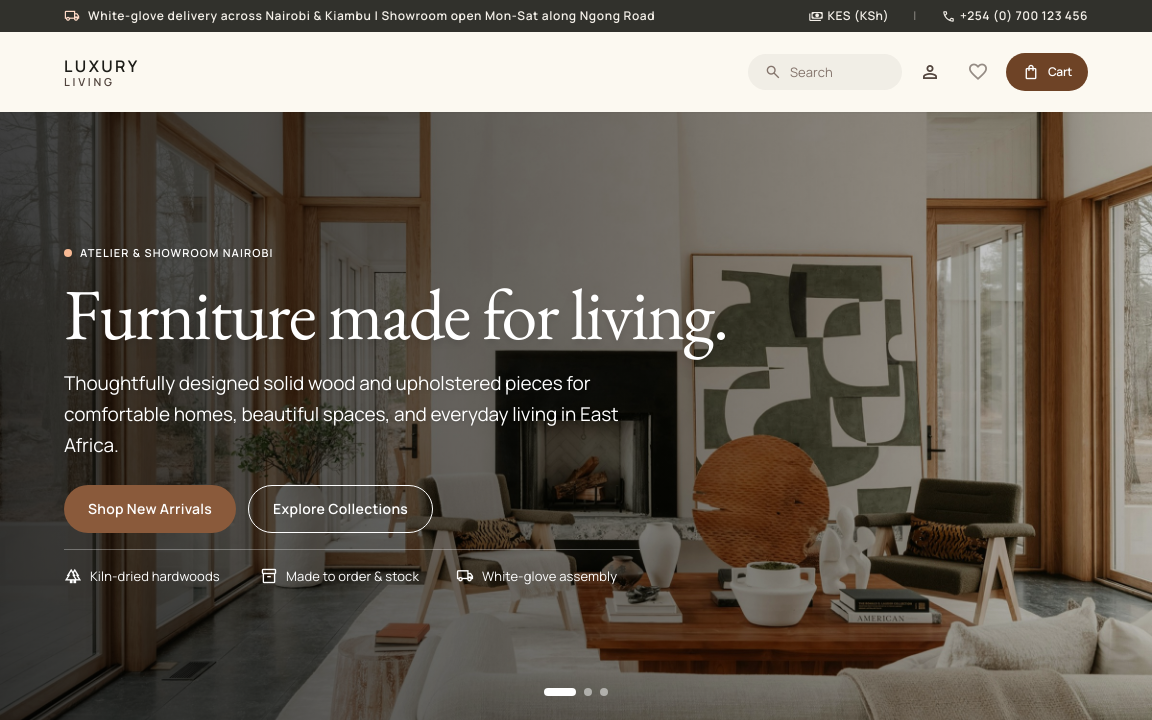
Scenario: signing in › shows the server's message when the password is wrong
Click the button named "Account" at (930, 72), box [910,52,950,92]
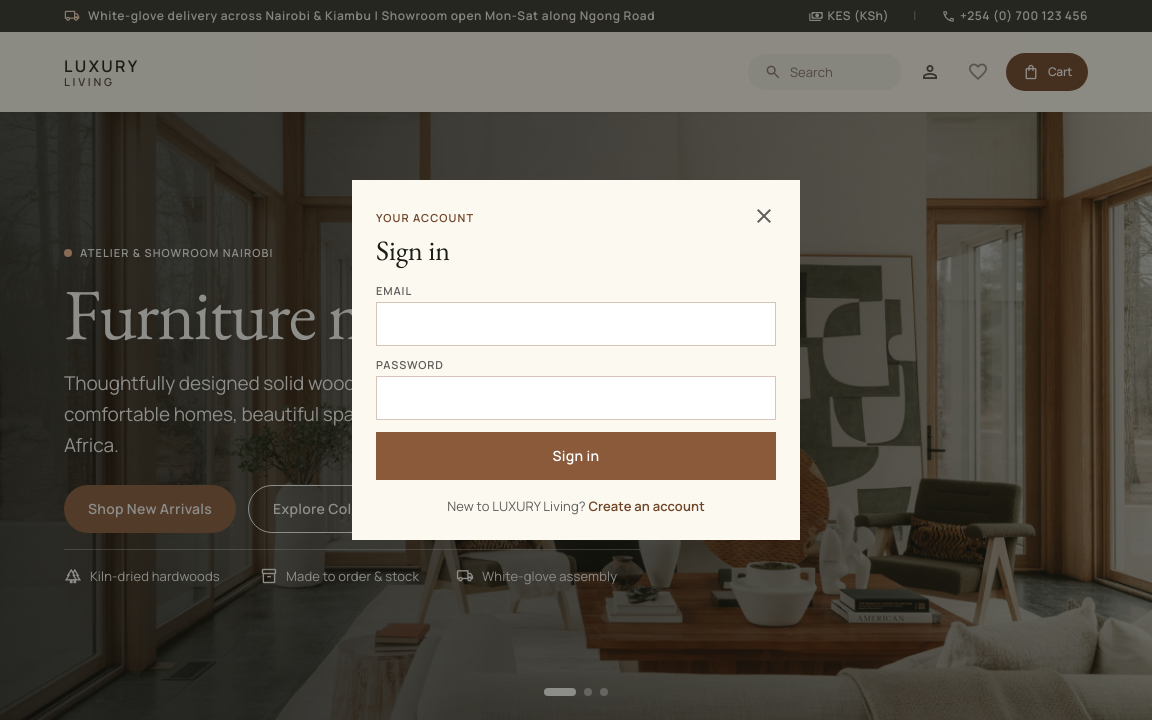
Type "jess@example.com" into the field labelled "Email" at (576, 324), box [376,302,776,346]
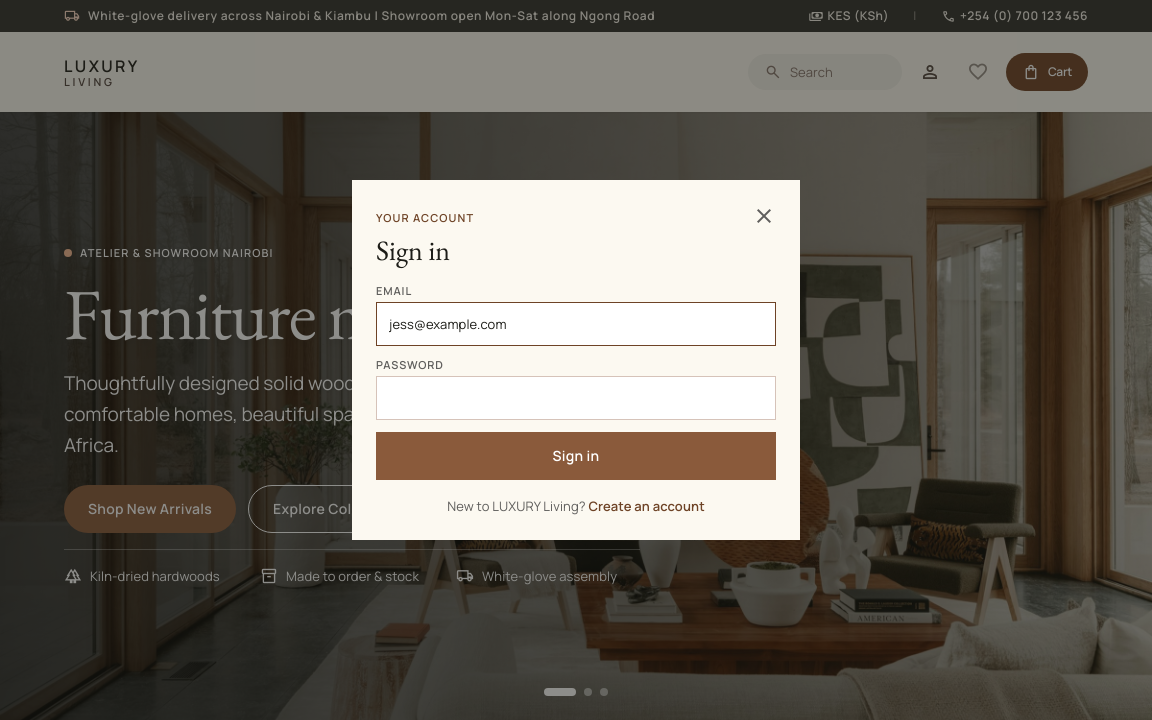
Type "wrong" into the password field labelled "Password" at (576, 398), box [376,376,776,420]
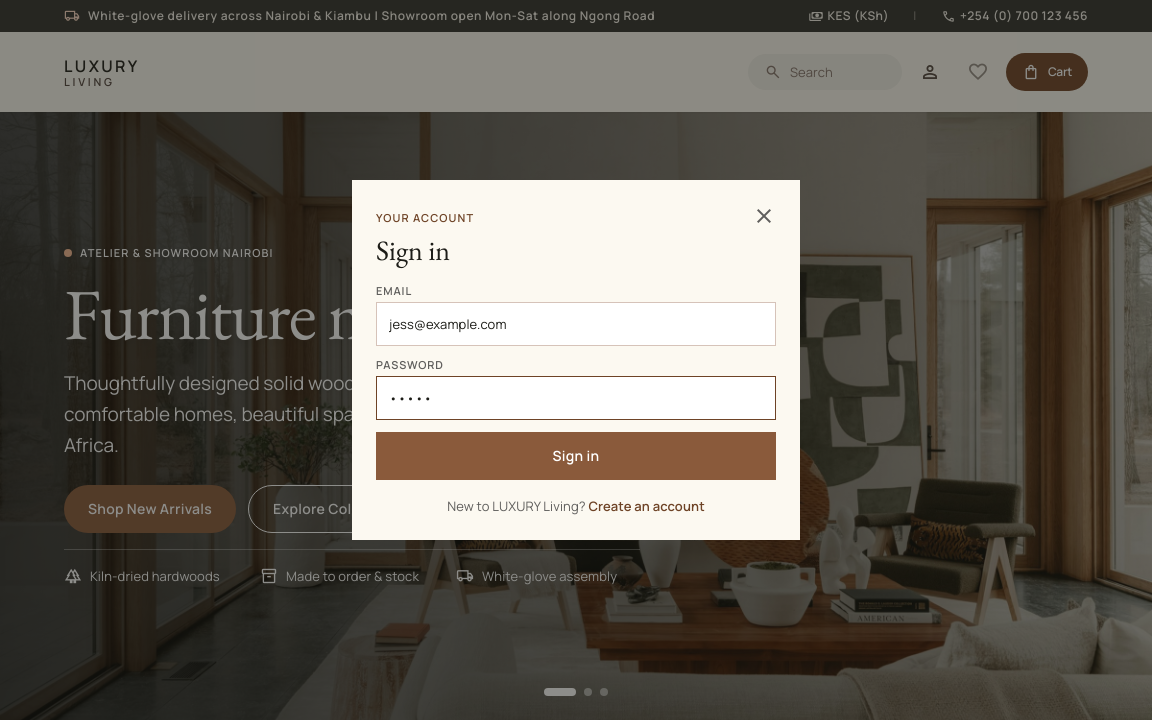
Click the button "Sign in" at (576, 456), box [376,432,776,480]
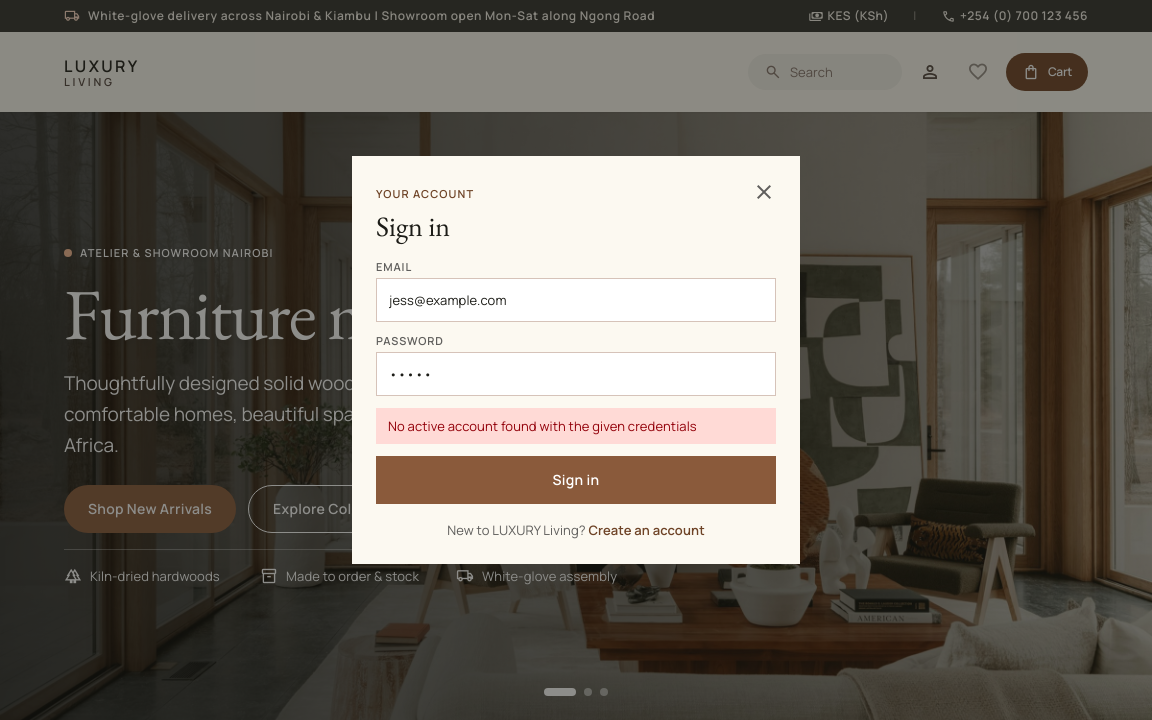
Check: the message shows "No active account", box [388,417,697,435]
